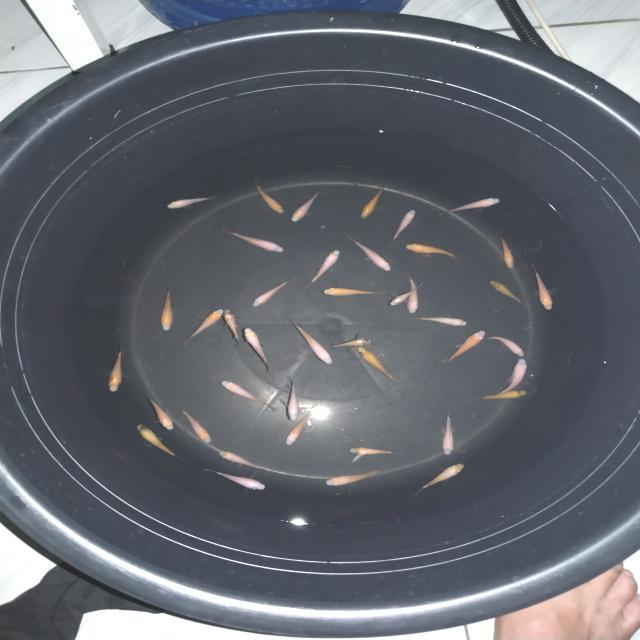nila: (284, 318, 334, 366), (342, 232, 396, 274), (128, 422, 184, 462), (201, 464, 270, 494), (350, 346, 404, 383), (218, 376, 273, 411), (182, 306, 226, 349), (282, 403, 322, 448), (219, 228, 287, 254), (414, 462, 470, 492), (442, 330, 487, 366), (306, 246, 344, 288), (242, 326, 277, 370), (440, 193, 505, 216), (177, 407, 216, 445), (249, 178, 287, 216), (140, 391, 176, 431), (528, 264, 558, 312), (102, 342, 128, 394), (290, 187, 324, 225), (498, 357, 531, 395), (402, 242, 464, 262), (162, 191, 218, 213), (320, 468, 378, 489), (486, 279, 528, 307), (251, 279, 291, 308), (217, 449, 267, 472), (486, 332, 530, 358), (156, 286, 178, 336), (281, 377, 303, 425), (389, 208, 418, 242), (470, 388, 530, 404), (438, 410, 458, 456), (493, 230, 516, 270), (222, 306, 243, 348), (400, 274, 420, 318), (358, 186, 383, 221), (384, 286, 422, 308), (318, 336, 376, 350), (416, 314, 474, 328), (321, 285, 382, 298), (342, 446, 403, 458)
